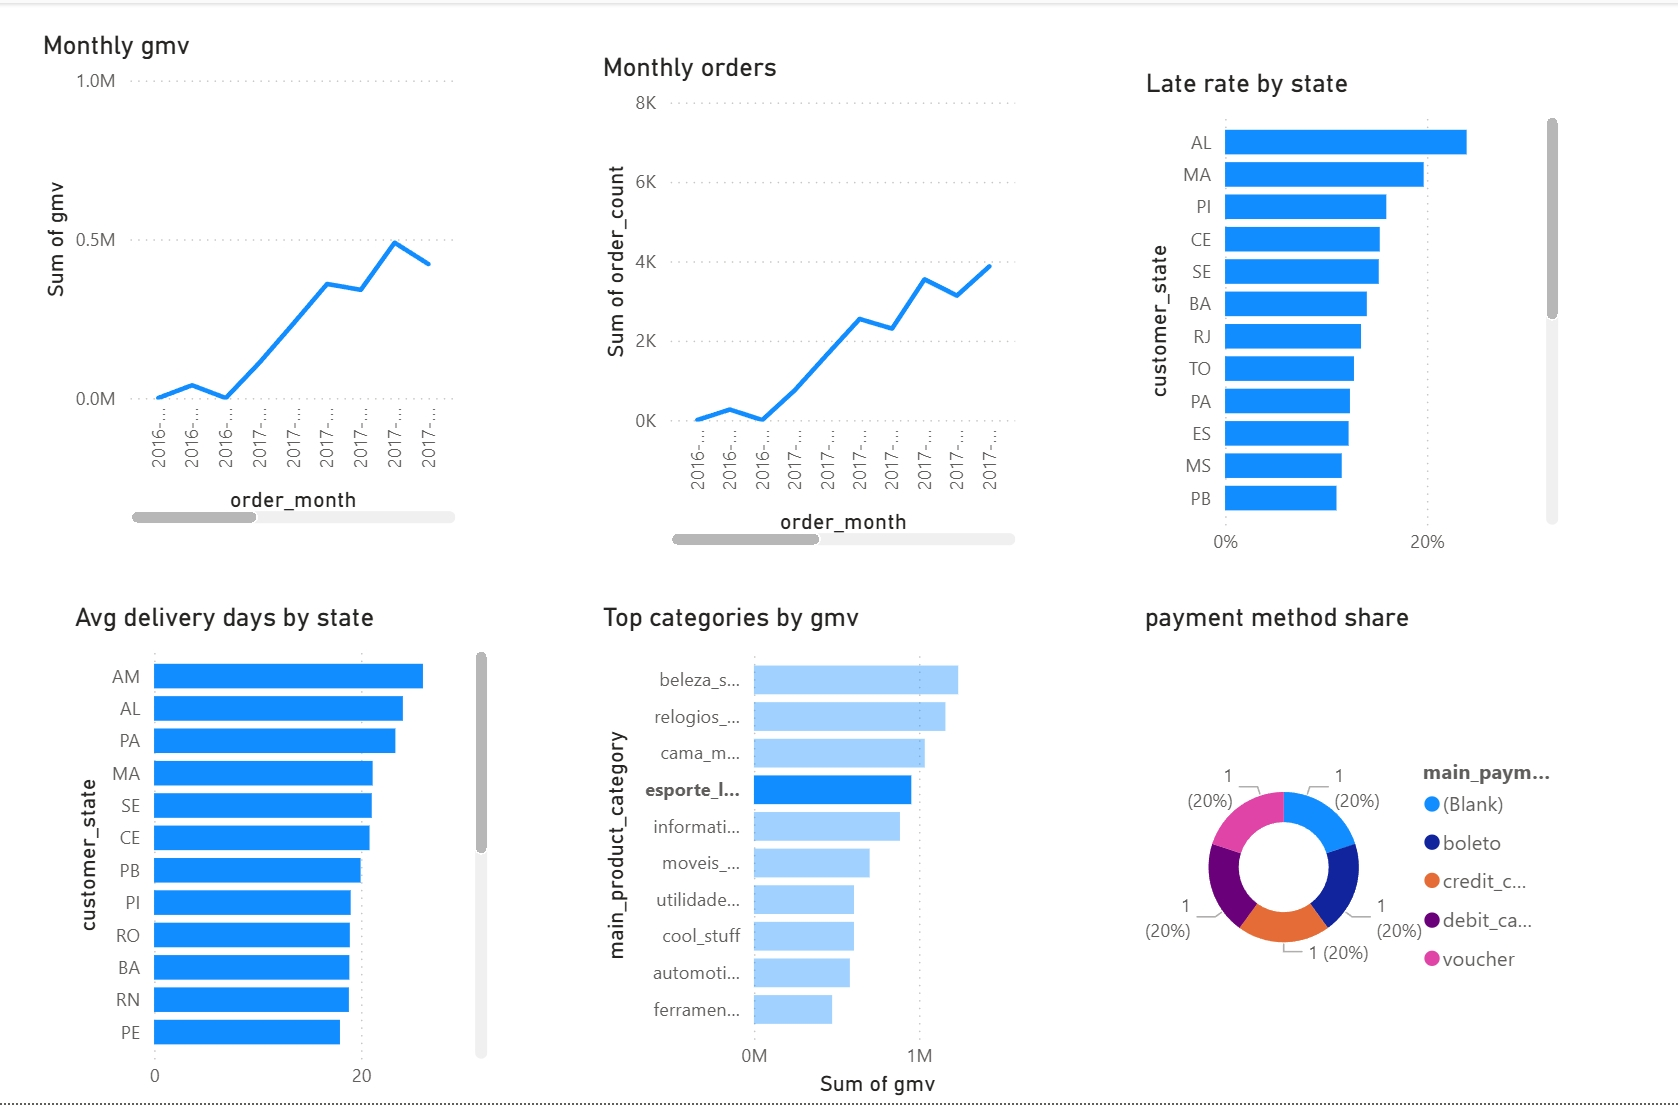

The page's visual inventory and layout, read from the dashboard file:
{"tool":"powerbi","page":{"name":"第 1 页","canvas":[1280,720],"ordinal":0},"visuals":[{"type":"lineChart","title":"Monthly gmv","fields":{"Y":["Sum(olist_db monthly_kpi.gmv)"],"Category":["olist_db monthly_kpi.order_month"]},"box":[23.6,17.7,280.1,327.9],"z":0},{"type":"lineChart","title":"Monthly orders","fields":{"Category":["olist_db monthly_kpi.order_month"],"Y":["Sum(olist_db monthly_kpi.order_count)"]},"box":[390,32.1,280.1,327.9],"z":1000},{"type":"clusteredBarChart","title":"Late rate by state","fields":{"Category":["olist_db state_delivery_kpi.customer_state"],"Y":["Sum(olist_db state_delivery_kpi.late_rate)"]},"box":[745.4,42.5,280.1,327.9],"z":2000},{"type":"clusteredBarChart","title":"Avg delivery days by state","fields":{"Category":["olist_db state_delivery_kpi.customer_state"],"Y":["Sum(olist_db state_delivery_kpi.avg_delivery_days)"]},"box":[44.5,392,280.1,327.9],"z":2001},{"type":"clusteredBarChart","title":"Top categories by gmv","fields":{"Category":["olist_db category_kpi.main_product_category"],"Y":["Sum(olist_db category_kpi.gmv)"]},"box":[390,392,280,328],"z":2002},{"type":"donutChart","title":"payment method share","fields":{"Category":["olist_db payment_kpi.main_payment_type"],"Y":["CountNonNull(olist_db payment_kpi.gmv)"]},"box":[745,392,280,328],"z":2003}]}

Visuals, with their boxes on the page's 1280x720 design canvas (x1, y1, x2, y2). These are canvas units, not pixel positions in the 1678x1106 screenshot, which may show the page scaled, cropped or inside an application window:
"Monthly gmv" lineChart: detection(24, 18, 304, 346)
"Monthly orders" lineChart: detection(390, 32, 670, 360)
"Late rate by state" clusteredBarChart: detection(745, 42, 1026, 370)
"Avg delivery days by state" clusteredBarChart: detection(44, 392, 325, 720)
"Top categories by gmv" clusteredBarChart: detection(390, 392, 670, 720)
"payment method share" donutChart: detection(745, 392, 1025, 720)
